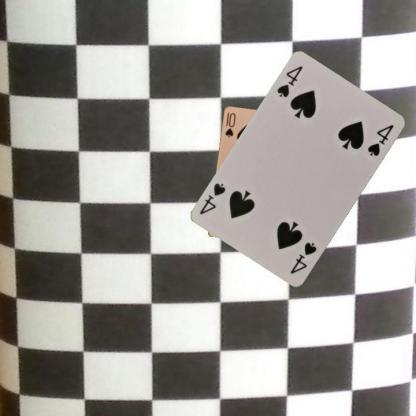10s: (222, 110, 236, 138)
4s: (288, 240, 318, 275), (274, 64, 304, 98)
